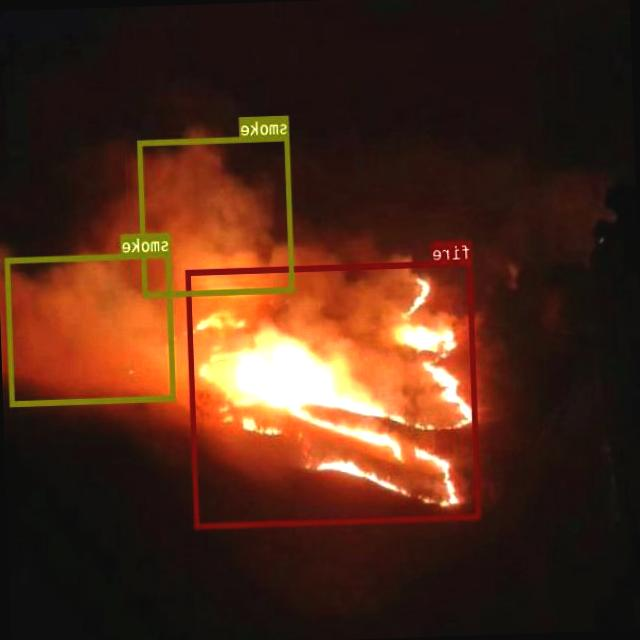fire: (186, 258, 482, 528)
smoke: (6, 251, 176, 405), (140, 134, 294, 296)
